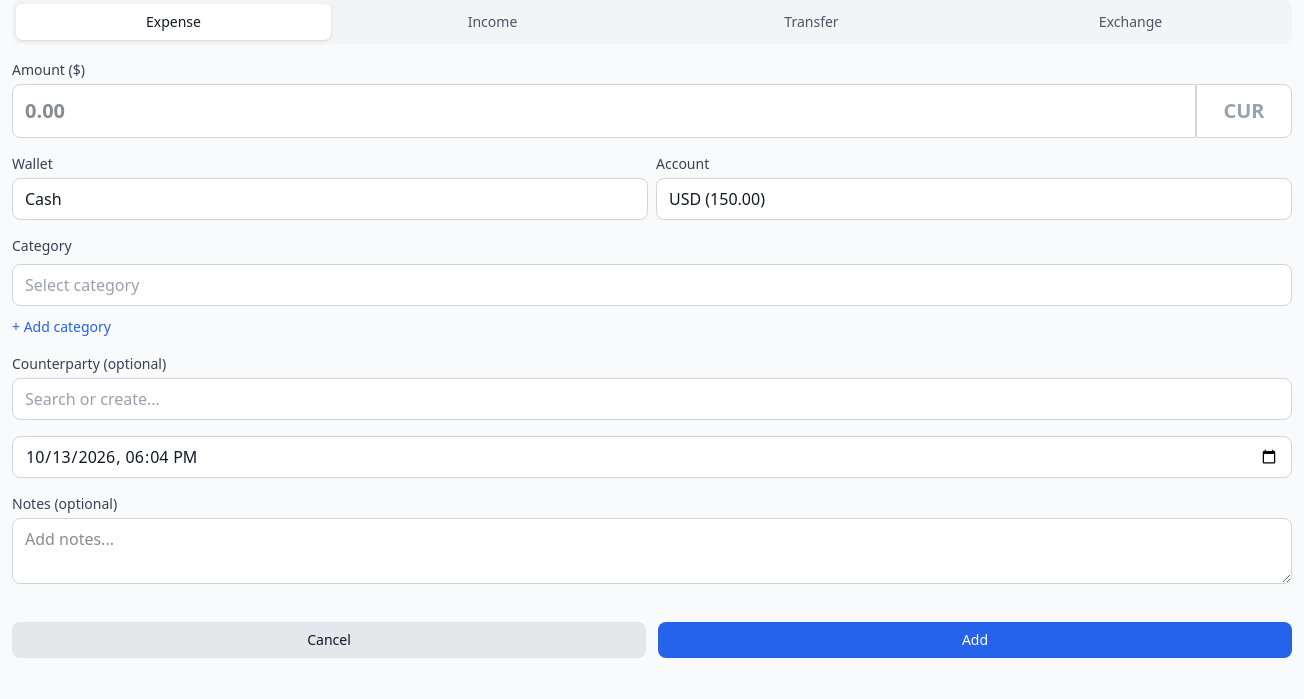
TransactionForm Editing mode › shows error if account is not selected
The width and height of the screenshot is (1304, 699).
Check: the button "Add" is shown, box [658,622,1292,658]
Force clear account select
Select "Select account" in the dropdown labelled "Account" at (974, 199), box [656,178,1292,220]
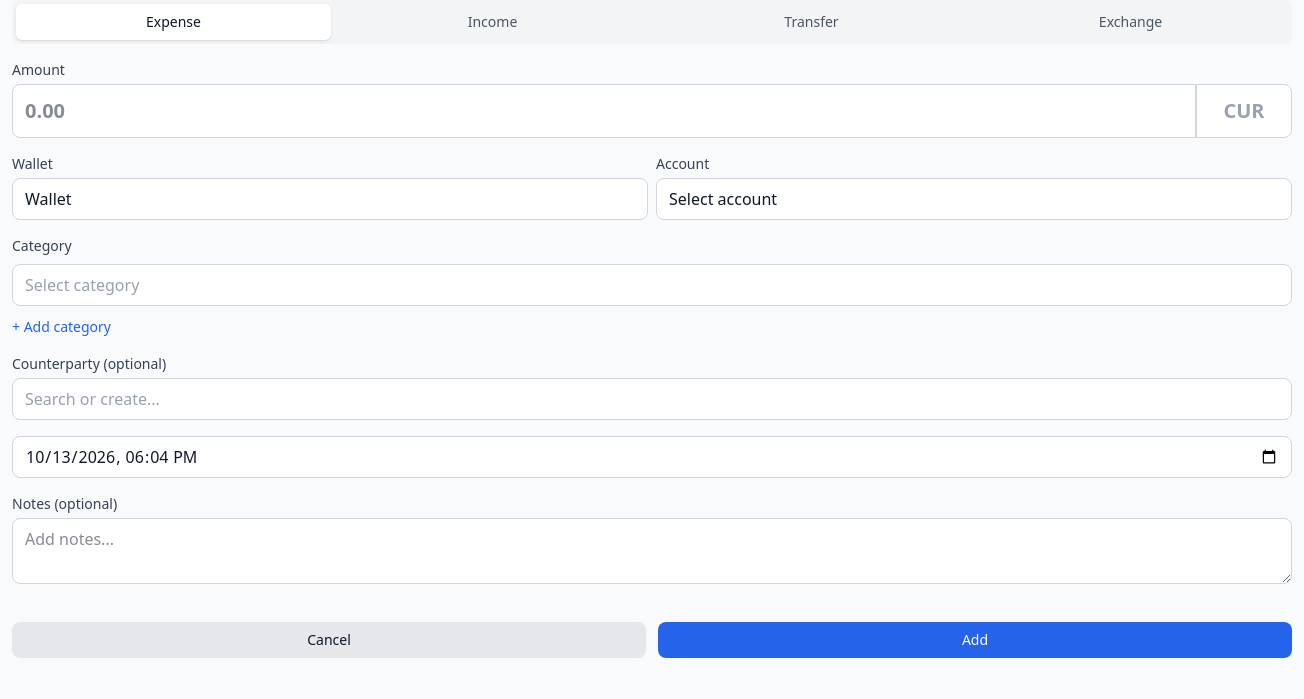
Click the button "Add".
click(975, 640)  # box [658,622,1292,658]
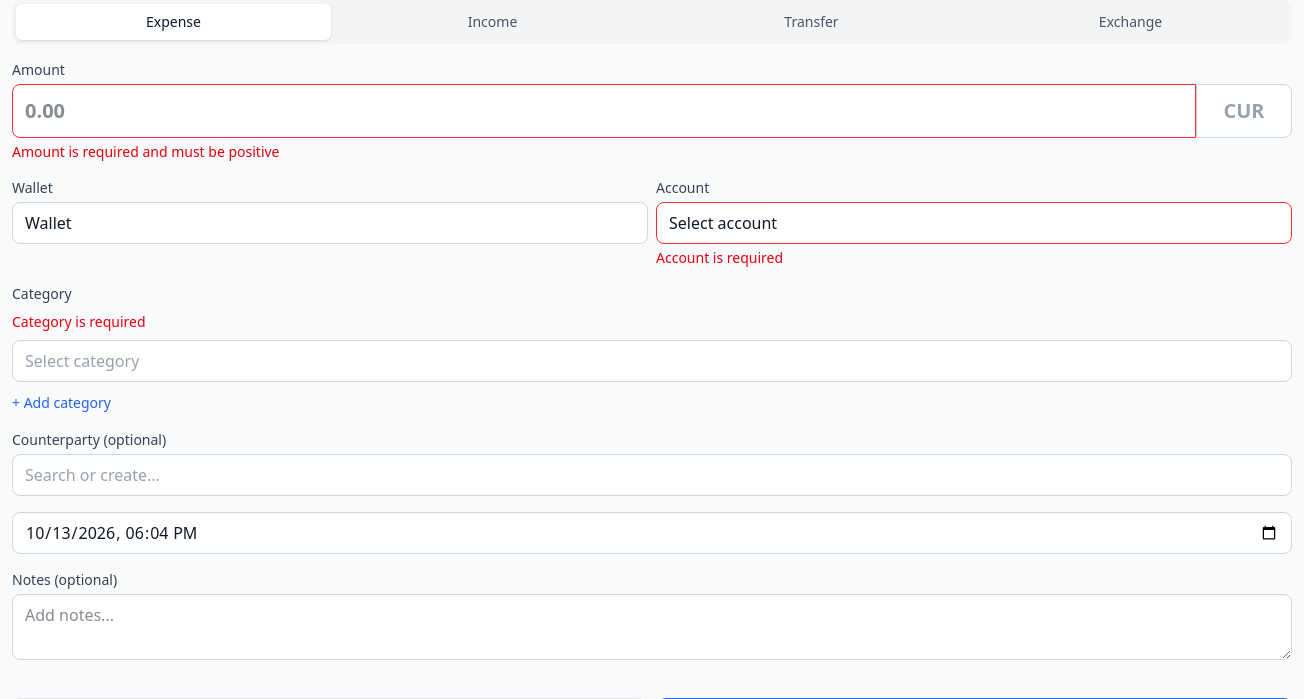
Check: the text "Account is required" is shown, box [656,248,783,267]
